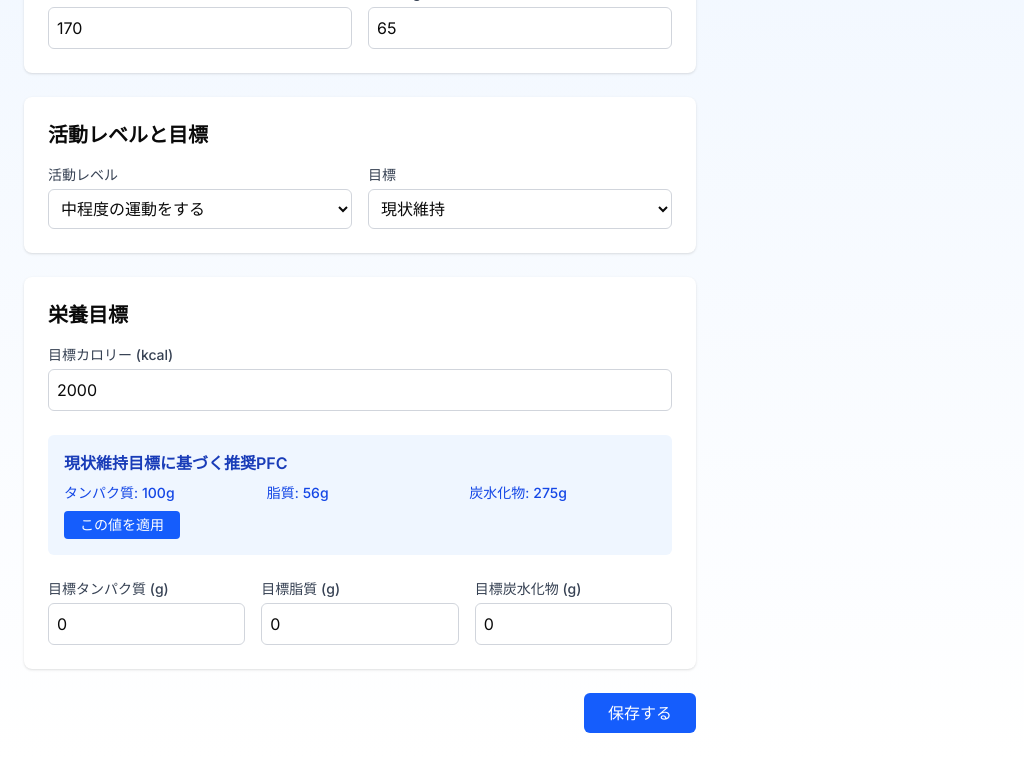
プロフィールページ › PFC値を入力するとカロリーが計算されること
(page scrolled)
//  PFC値を設定
Replace the text in the number field below "目標タンパク質 (g)" with "100" at point(147, 624), box [48,603,245,645]
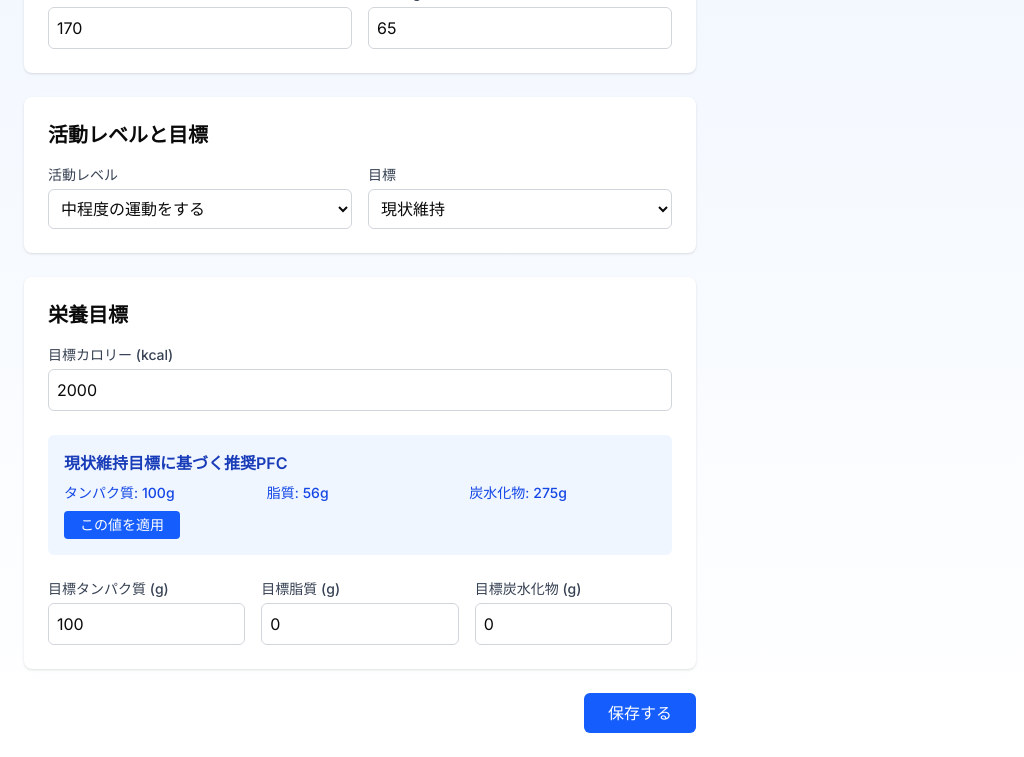
Replace the text in the number field below "目標脂質 (g)" with "60" at point(360, 624), box [261,603,459,645]
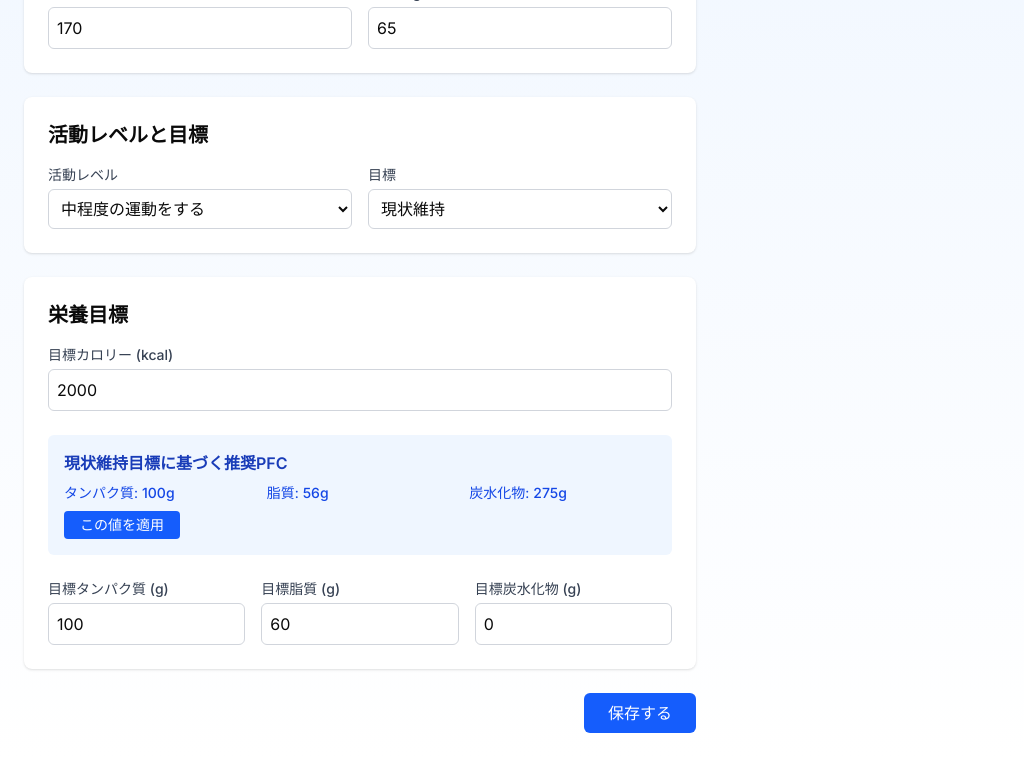
Replace the text in the number field below "目標炭水化物 (g)" with "250" at point(573, 624), box [475,603,672,645]
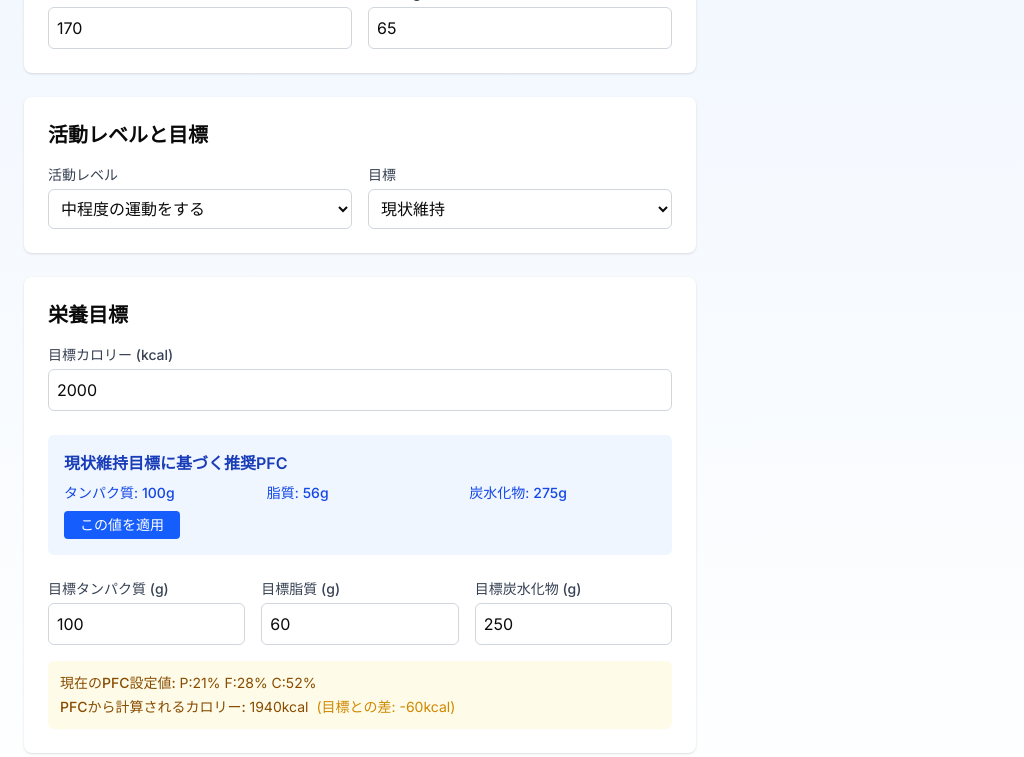
Now the text "PFCから計算されるカロリー:" is shown, box [60,698,250,715]
